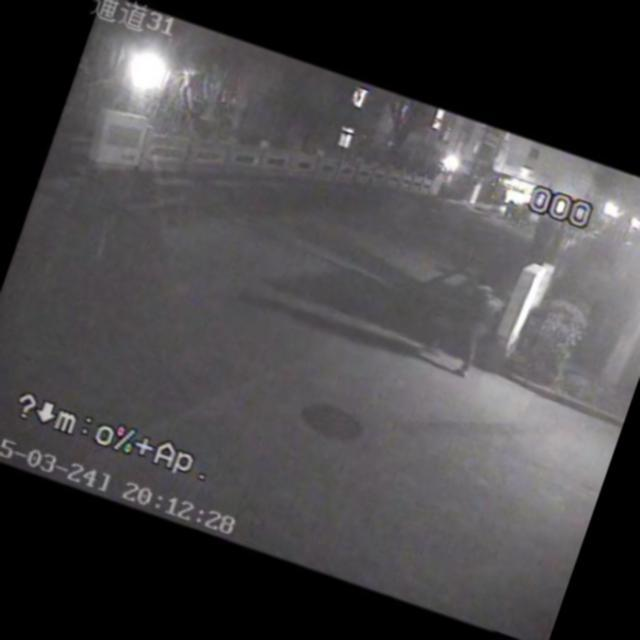person: (412, 258, 512, 380)
